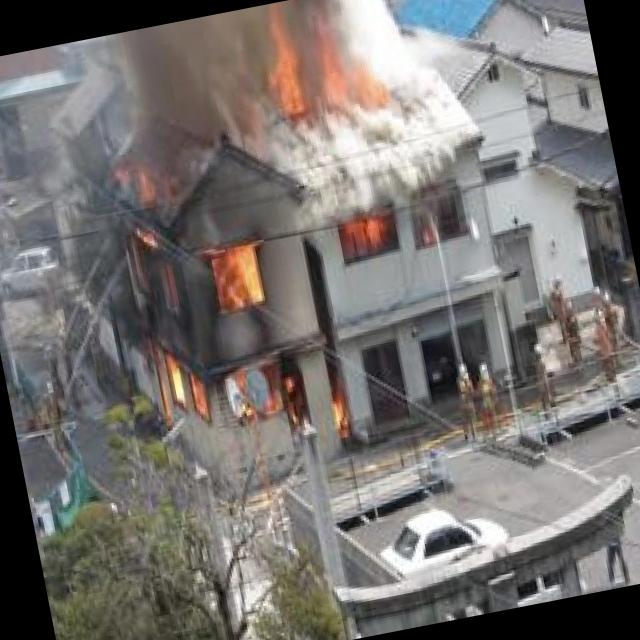Fire: (105, 193, 355, 492), (338, 208, 400, 266)
Smoke: (125, 0, 483, 242)
